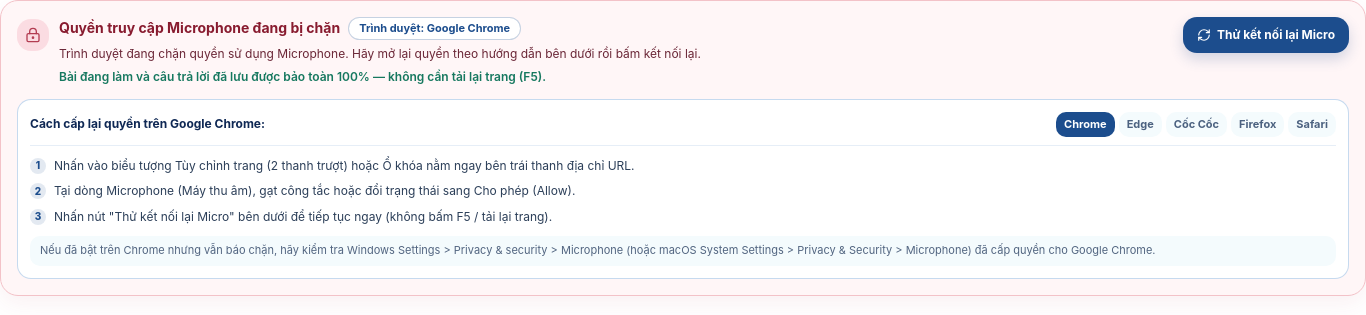
HOÀNG-08 Microphone permission guide & mid-exam headset auto-reconnect › renders browser-specific permission steps, allows switching browser tabs, and auto-retries when permission becomes granted
Expected: the text "Quyền truy cập Microphone đang bị chặn" is shown, [59,18,340,38]
Expected: the text "Bài đang làm và câu trả lời đã lưu được bảo toàn 100%" is shown, [59,69,546,84]
# Chuyển tab sang Firefox để xem hướng dẫn riêng của Firefox
Click the tab "Firefox" at (1258,124), box [1231,112,1284,136]
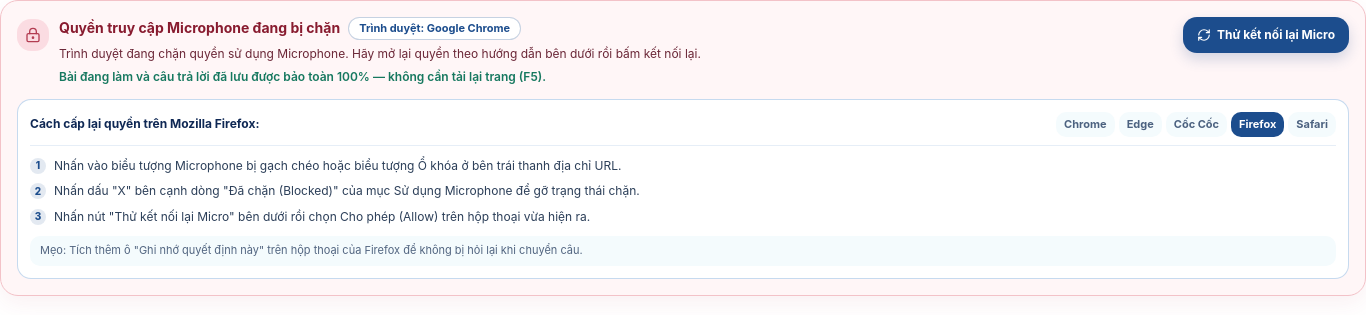
Result: the text "Cách cấp lại quyền trên Mozilla Firefox:" is shown at [30,116,259,132]
